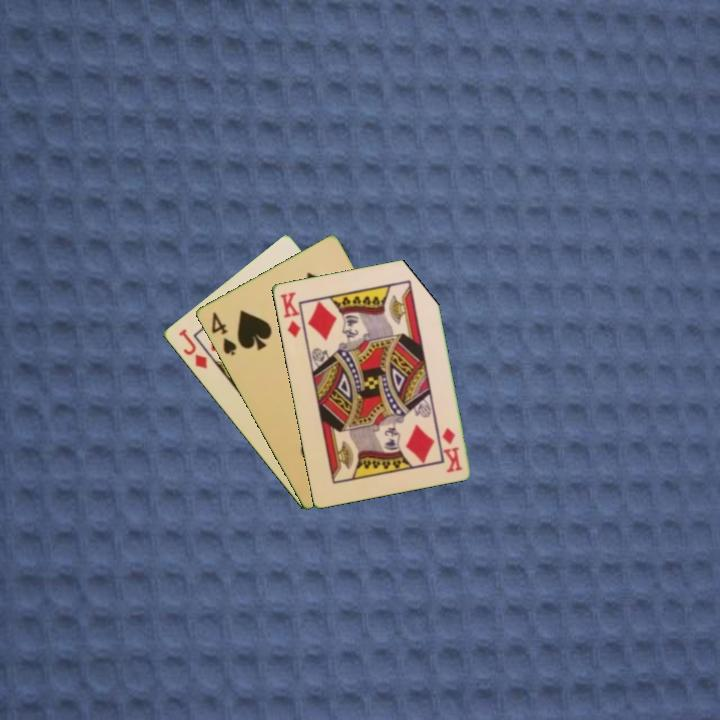4s: (207, 308, 239, 358)
Jd: (174, 325, 210, 372)
Kd: (276, 288, 303, 340), (438, 424, 465, 475)
